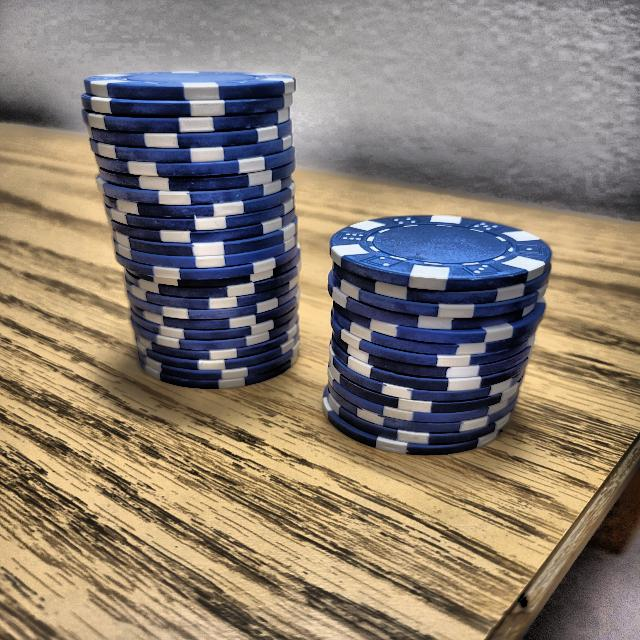Chip: (70, 54, 323, 408), (301, 208, 568, 455)
